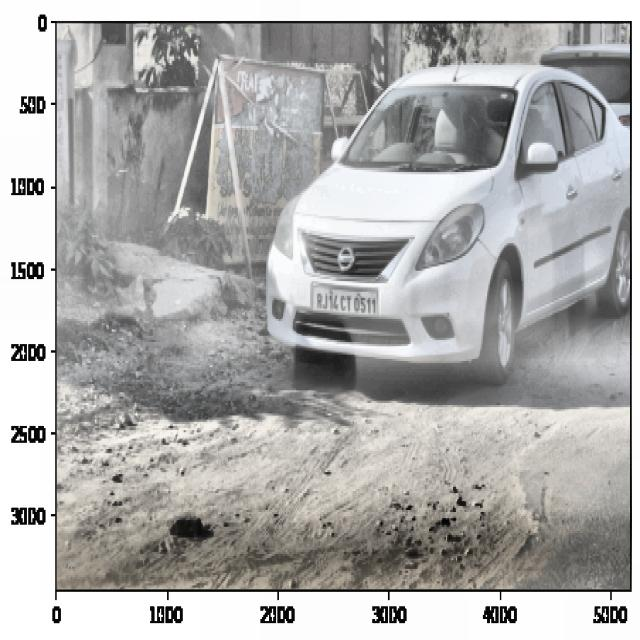license_plate: (311, 287, 379, 320)
